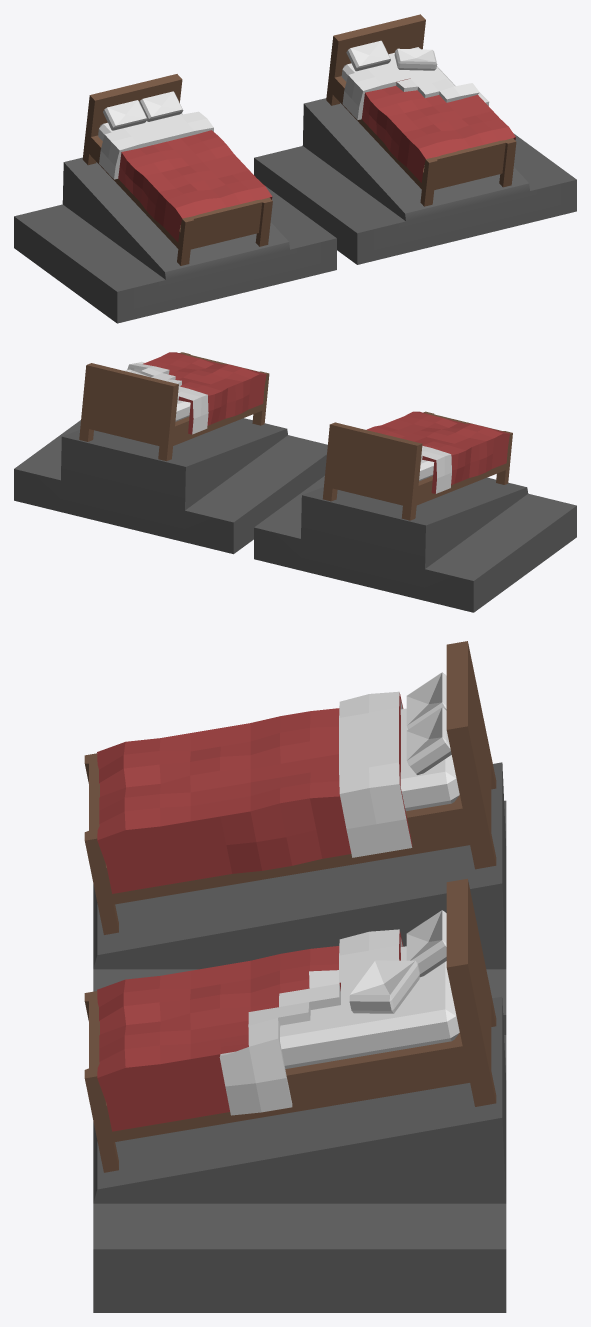
Rendered from BedsColoured.fbx.
The picture shows the model from 3 angles, top to bottom: view 1: azimuth 30°, elevation 25°; view 2: azimuth 150°, elevation 25°; view 3: azimuth 270°, elevation 25°; orthographic projection. The views are drawn at different scales.
Parts seen in each view (by area): view 1: madeBed, messyBed; view 2: madeBed, messyBed; view 3: messyBed, madeBed.
Part boxes in pixels (<box>): madeBed: <box>14,74,336,323</box>; messyBed: <box>254,14,576,264</box>; madeBed: <box>254,411,576,612</box>; messyBed: <box>14,352,327,554</box>; messyBed: <box>84,878,506,1312</box>; madeBed: <box>84,641,506,1034</box>.
Bounding box in the file's own units: 18.47 × 5.52 × 7.33.
